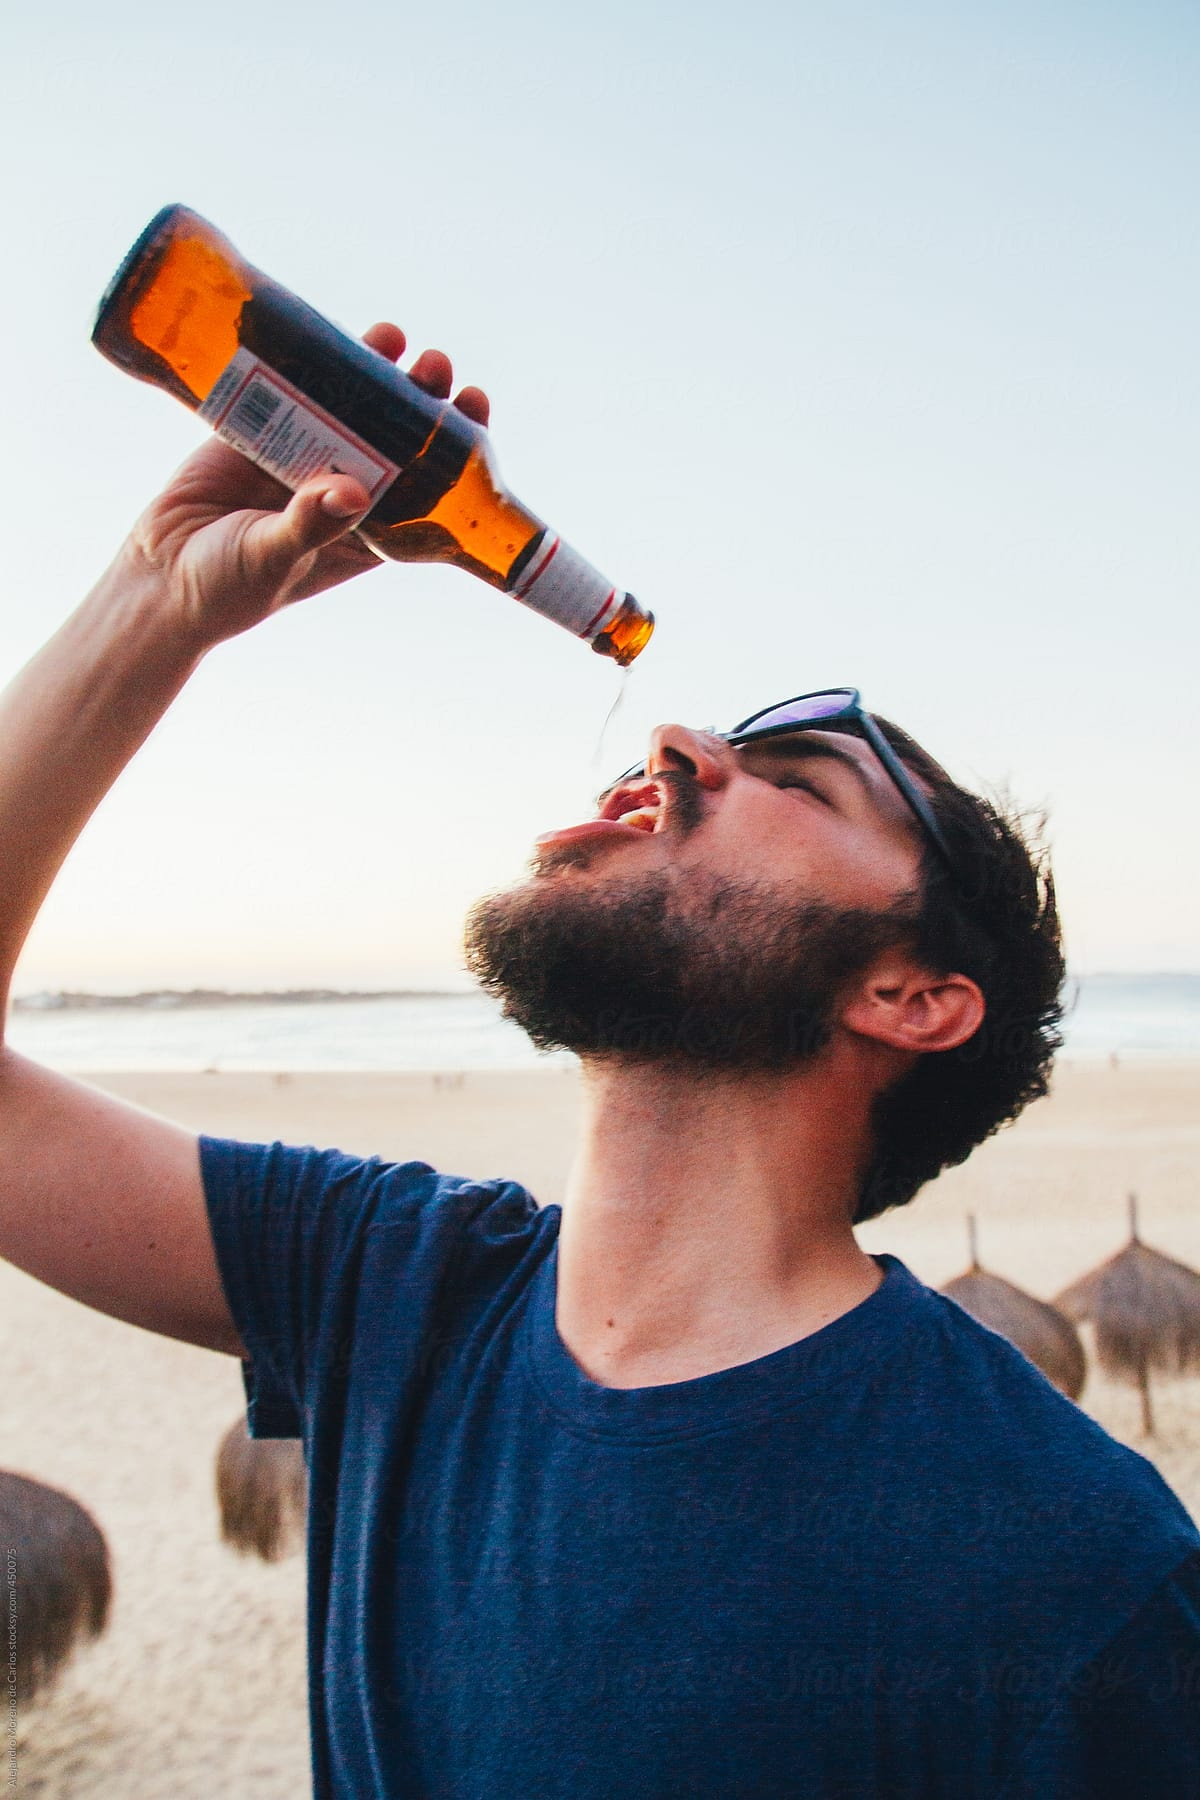beerBottle: (95, 212, 664, 658)
